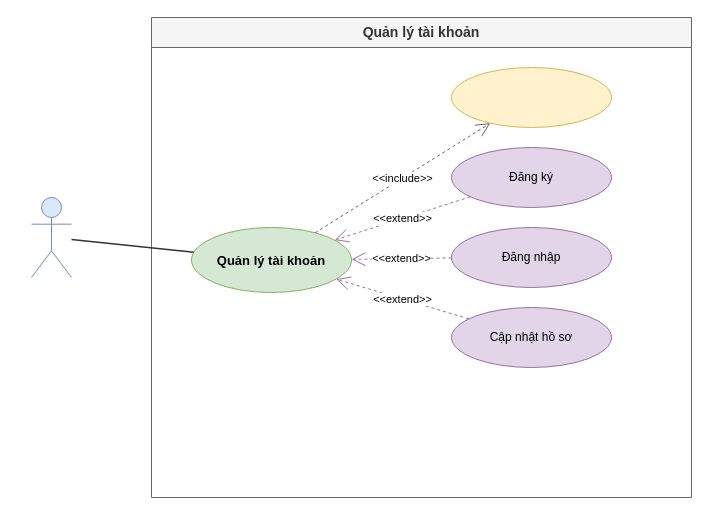
The diagram is 709 pixels wide and 515 high, and some of its shapes have lost their labels. The box of each missing label's shape, as (x1, y1, x2, y2) in pixels:
Người dùng: (30, 196, 72, 278)
Xem thông tin tài khoản: (450, 66, 612, 128)
